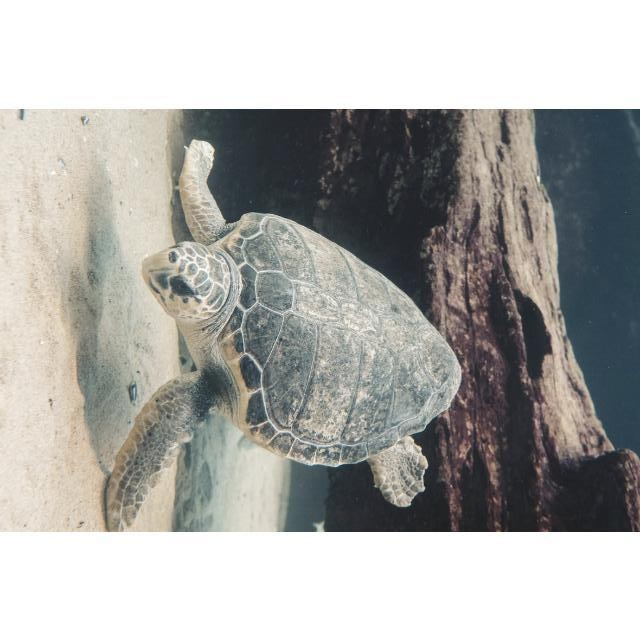turtle: (105, 138, 464, 532)
